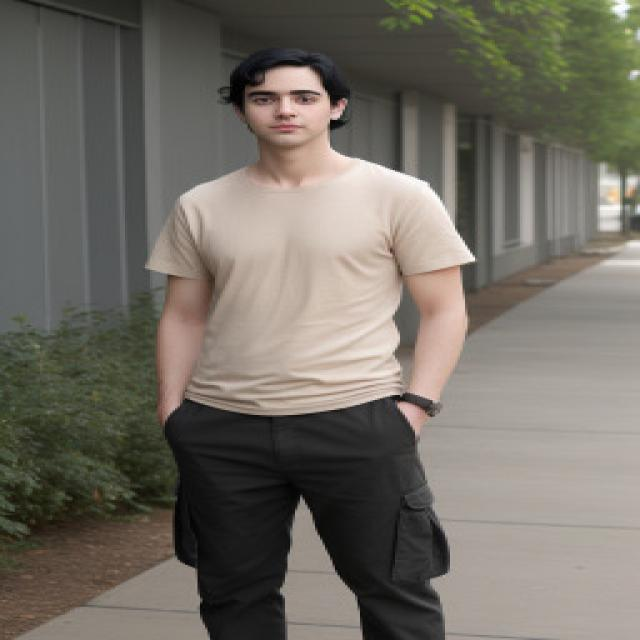Ai human 2: (123, 39, 501, 640)
